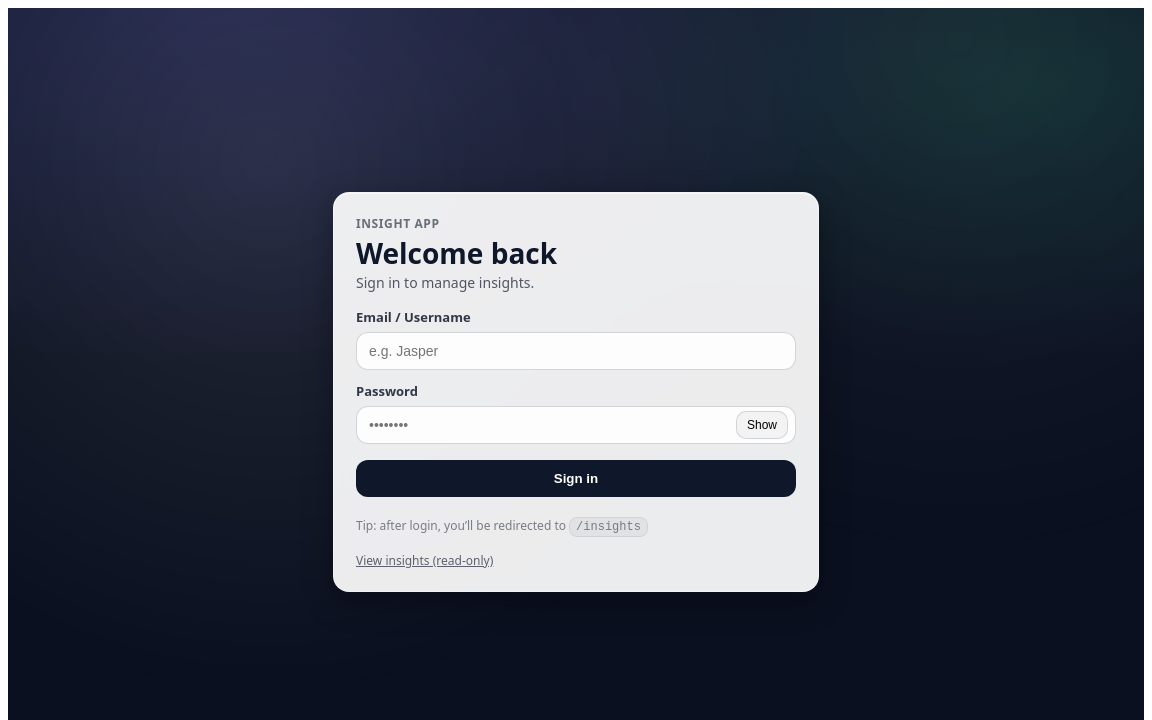
Scenario: LoginPage › toggles password visibility when clicking Show/Hide
The image size is (1152, 720).
Click the button "Show": (762, 425) [736, 411, 788, 439]
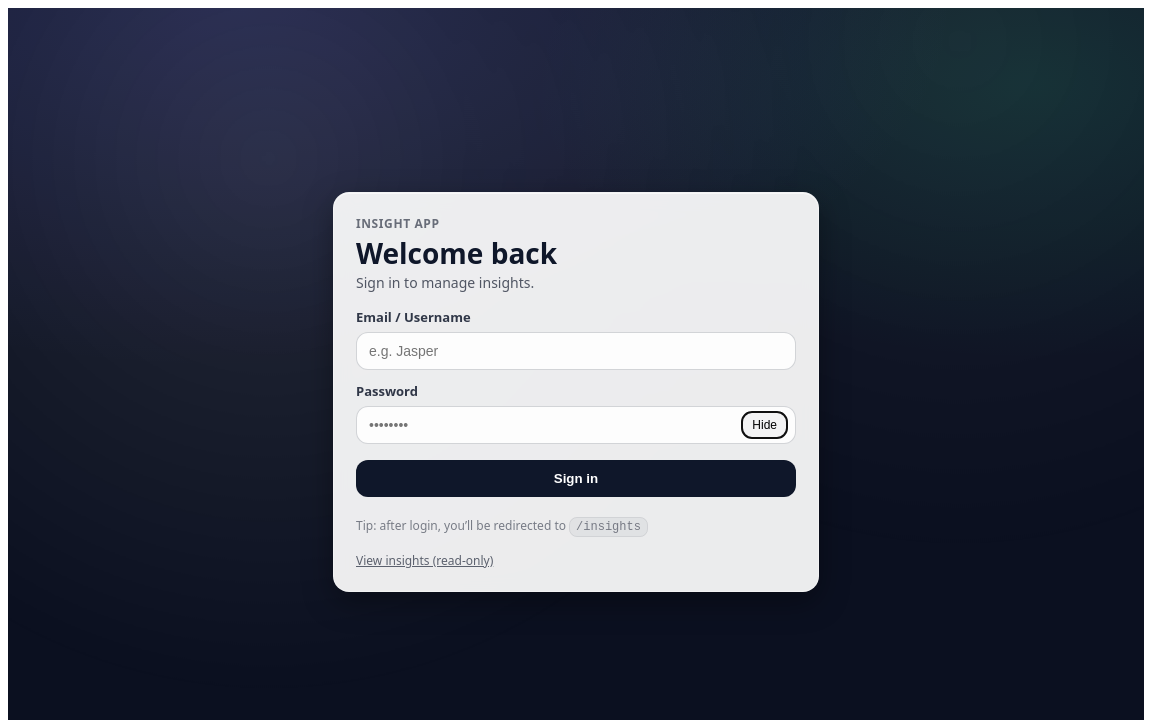
Check: the button "Hide" is shown, box [741, 411, 788, 439]
